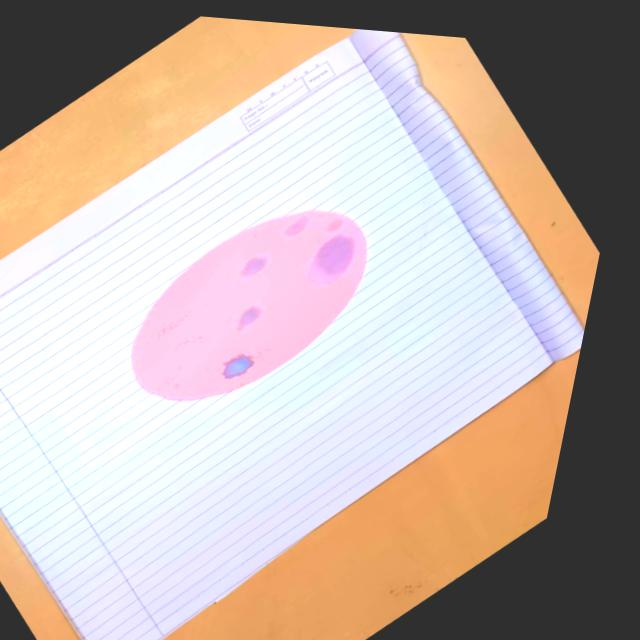BlueColor: (311, 234, 356, 283), (223, 355, 254, 378), (238, 307, 261, 330), (241, 257, 267, 277), (284, 217, 308, 237), (328, 216, 342, 232)
